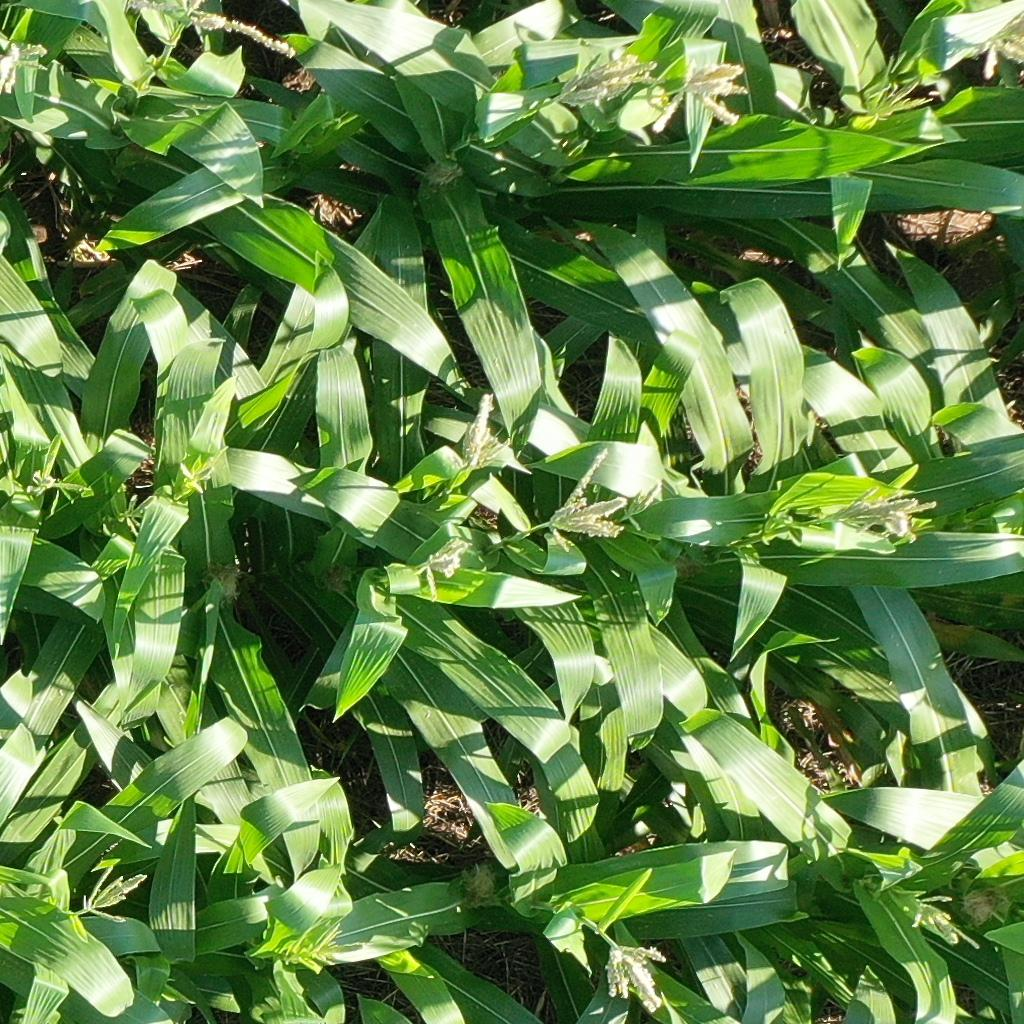Tassel: (133, 1, 297, 71), (543, 444, 635, 556), (648, 58, 760, 136), (823, 479, 939, 548), (552, 51, 666, 111), (75, 859, 153, 931), (601, 936, 670, 1012), (857, 46, 931, 116), (408, 533, 476, 603), (906, 890, 979, 953), (459, 391, 510, 476), (299, 916, 362, 969), (1, 36, 52, 97), (982, 10, 1024, 78), (179, 443, 229, 496), (31, 467, 92, 506), (116, 491, 159, 539), (622, 479, 660, 533)
